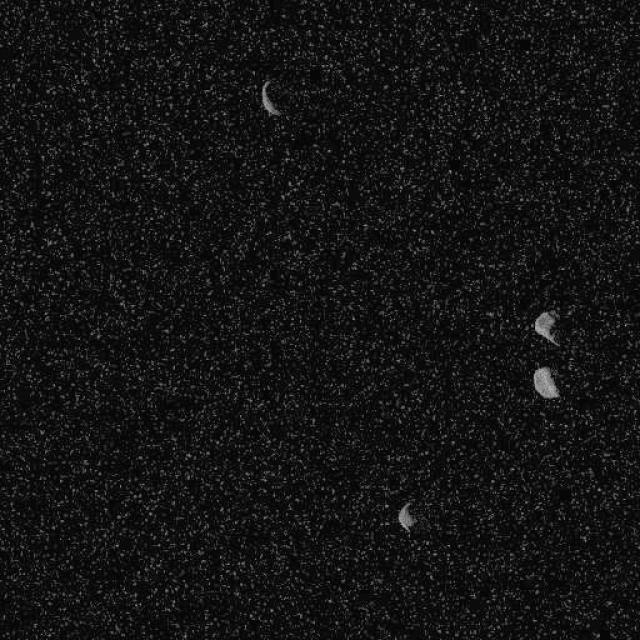D2: (532, 308, 562, 347), (531, 365, 560, 400), (260, 79, 281, 116), (396, 502, 415, 532)
